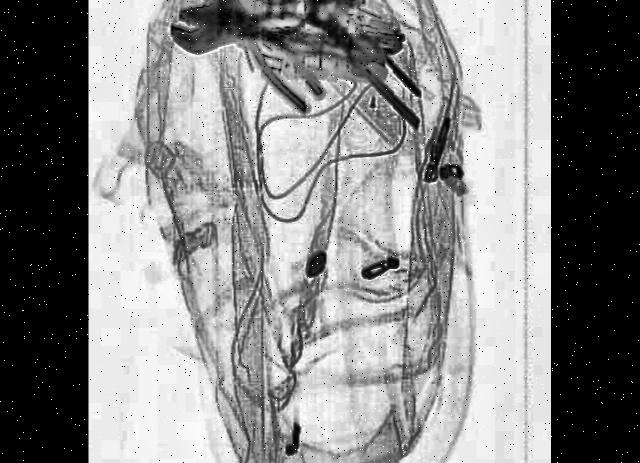Pliers: (210, 0, 327, 128)
Wrench: (171, 4, 404, 69)
